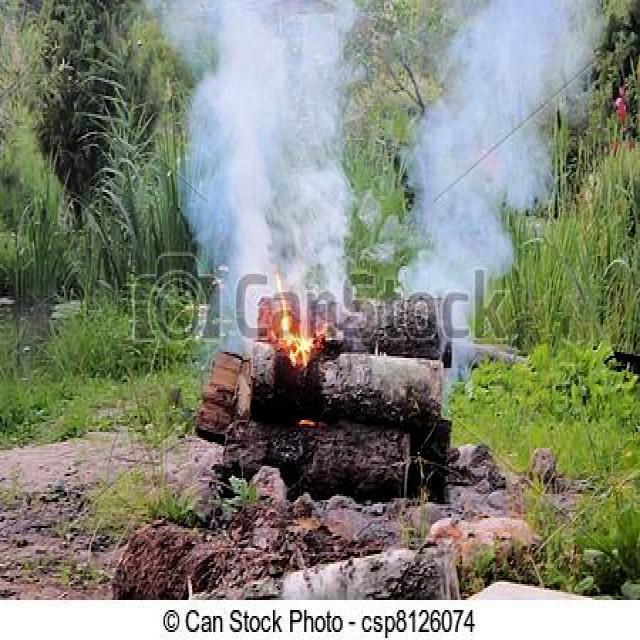Fire: (272, 308, 318, 370)
Smoke: (156, 0, 372, 352), (392, 0, 606, 342)
